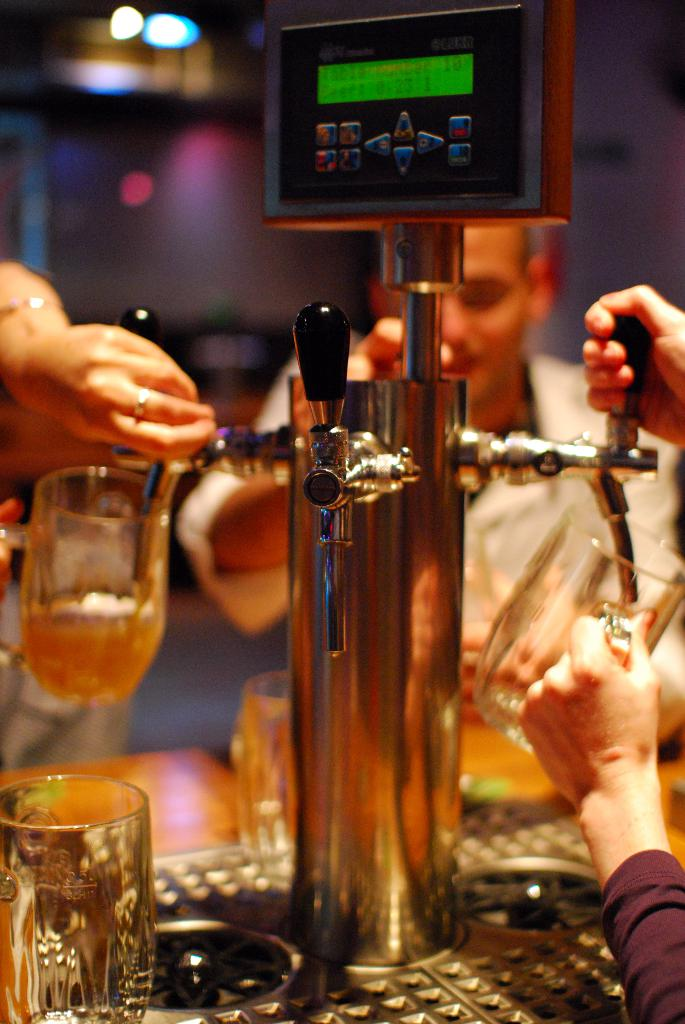Beer: (17, 574, 161, 712)
